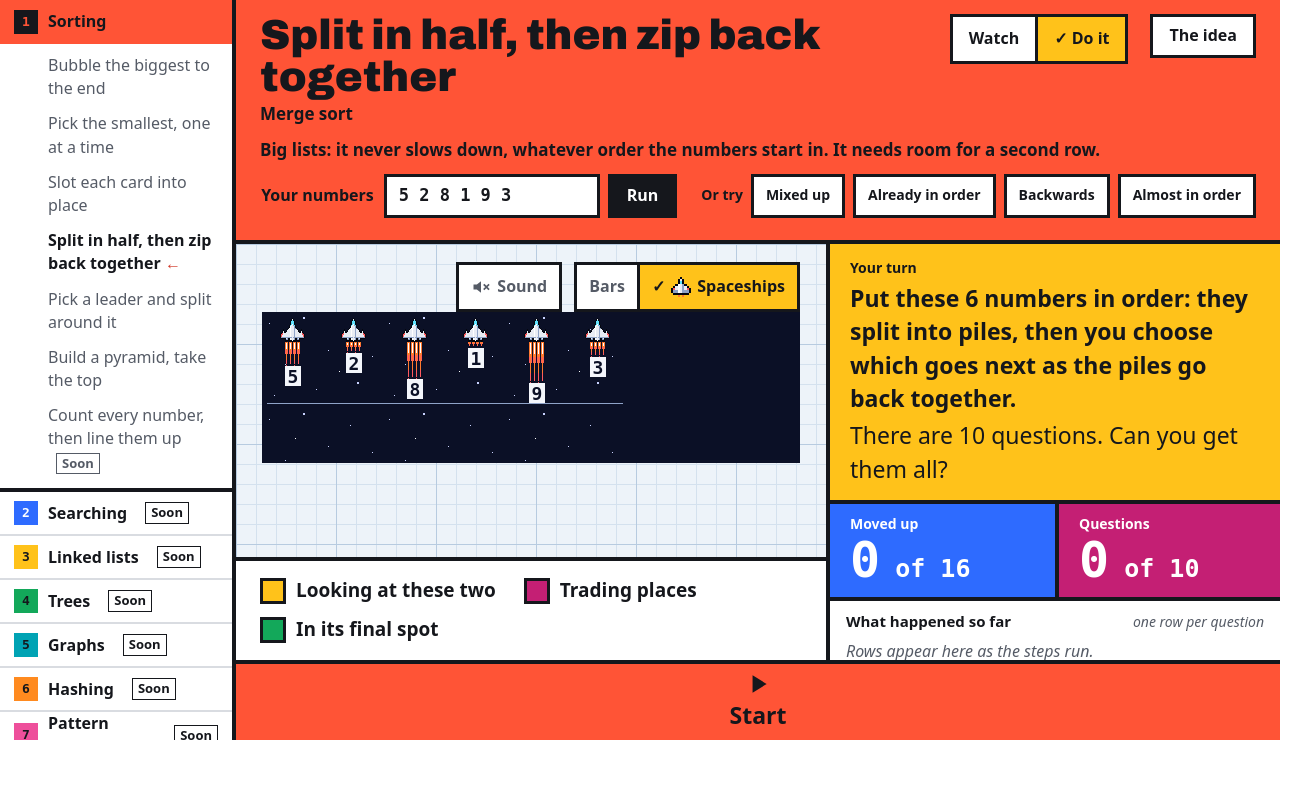
Test: merge sort with the spaceships › Explorer, Do it: L and R badges above the leads while a question waits
Click the button "Start" at (758, 702), box [236, 664, 1280, 740]
Wait 8000 ms
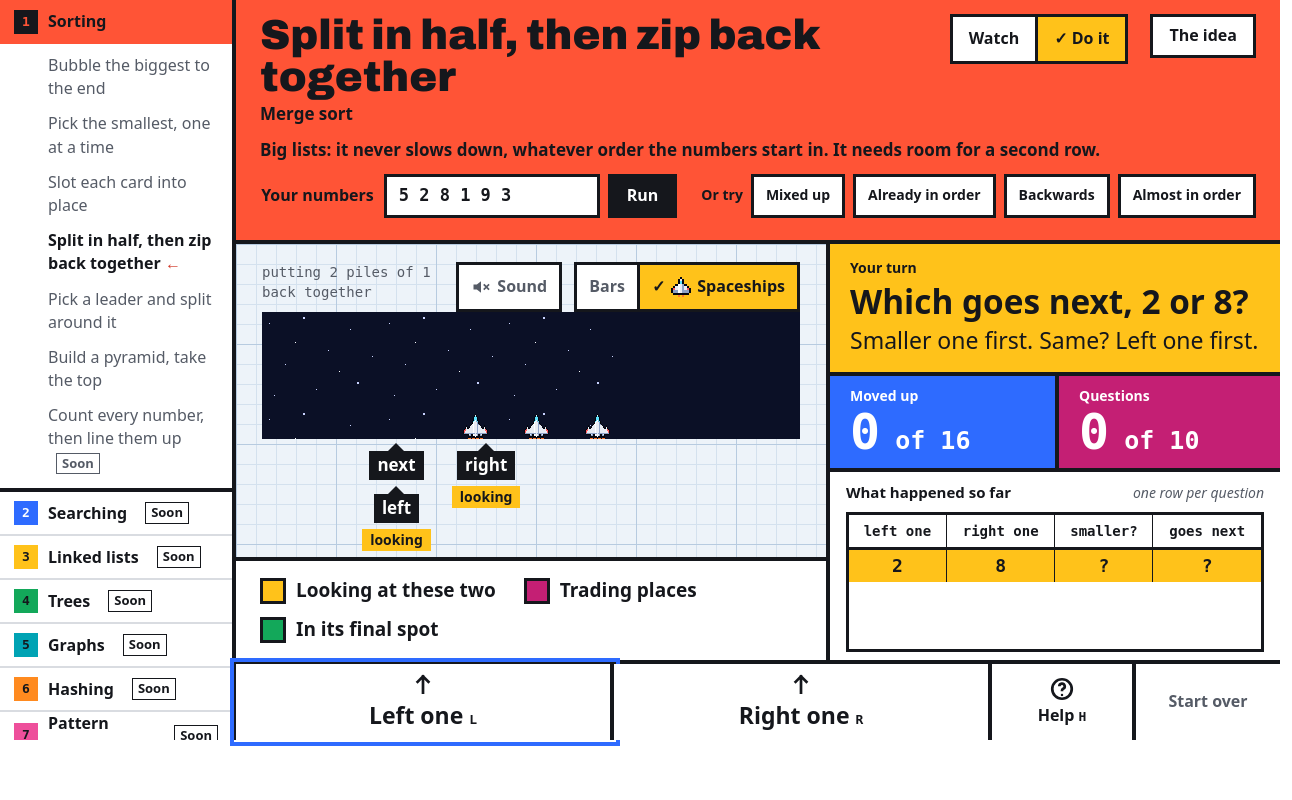
Now the text with class "do-it-question" reads "Which goes next, 2 or 8?", box [850, 278, 1249, 324]
Type keys "l"
Wait 6000 ms
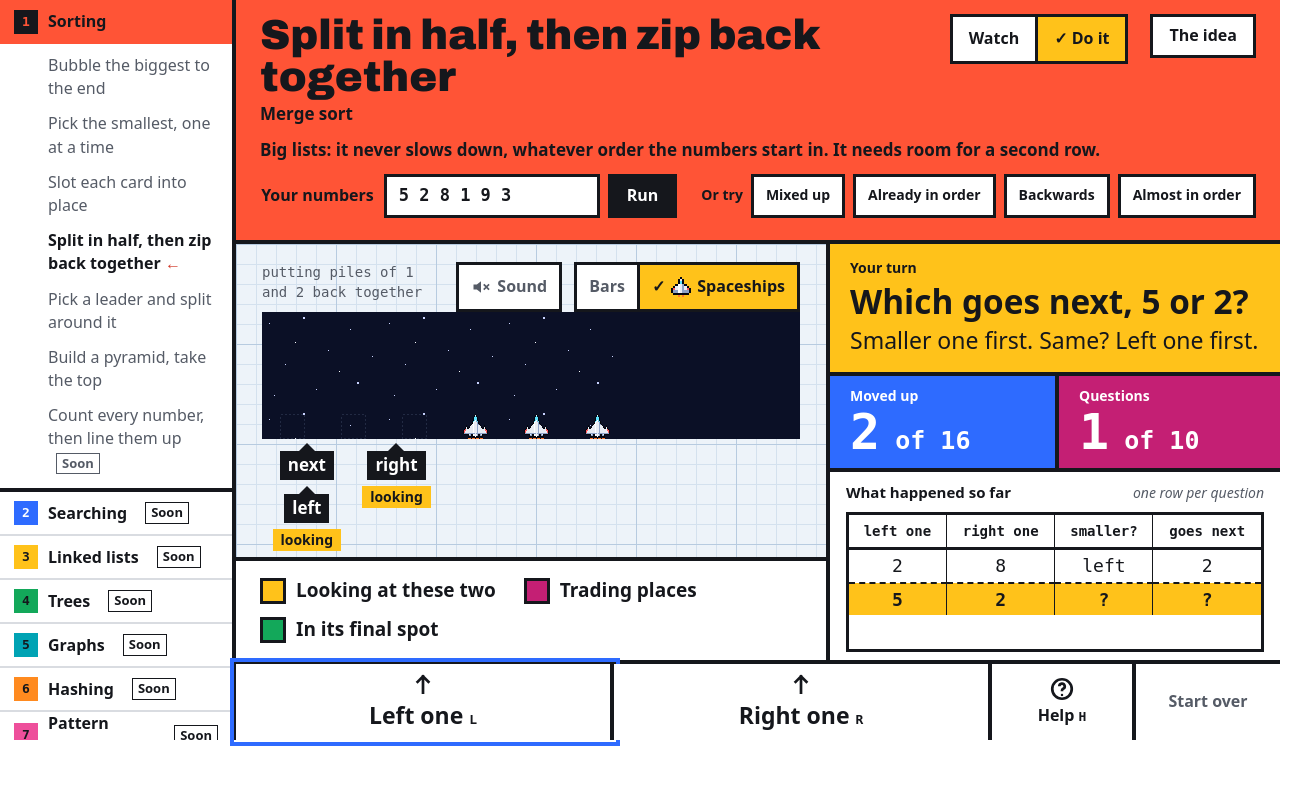
Now the text with class "do-it-question" reads "Which goes next, 5 or 2?", box [850, 278, 1249, 324]
